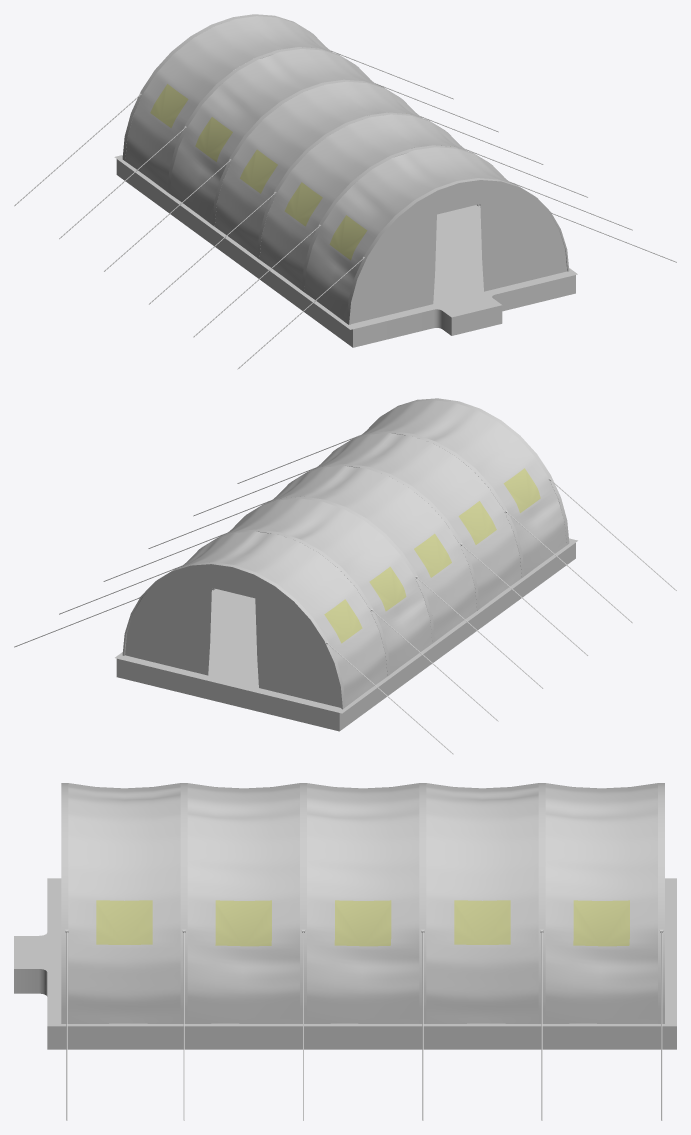
The model's file is Tent2.fbx.
3 renders of one model, top to bottom at view 1: azimuth 30°, elevation 25°; view 2: azimuth 150°, elevation 25°; view 3: azimuth 270°, elevation 25°, orthographic. The views are drawn at different scales.
Parts seen in each view (by area): view 1: Cloth, Details; view 2: Cloth, Details; view 3: Cloth, Details.
Boxes of the visible parts, x1,y1,x2,y2 form: Cloth: (125, 16, 566, 323); Details: (14, 14, 676, 369); Cloth: (125, 400, 566, 707); Details: (14, 398, 676, 754); Cloth: (68, 783, 657, 1023); Details: (14, 783, 676, 1120).
Bounding box in the file's own units: 14.8 × 4.34 × 14.51.
